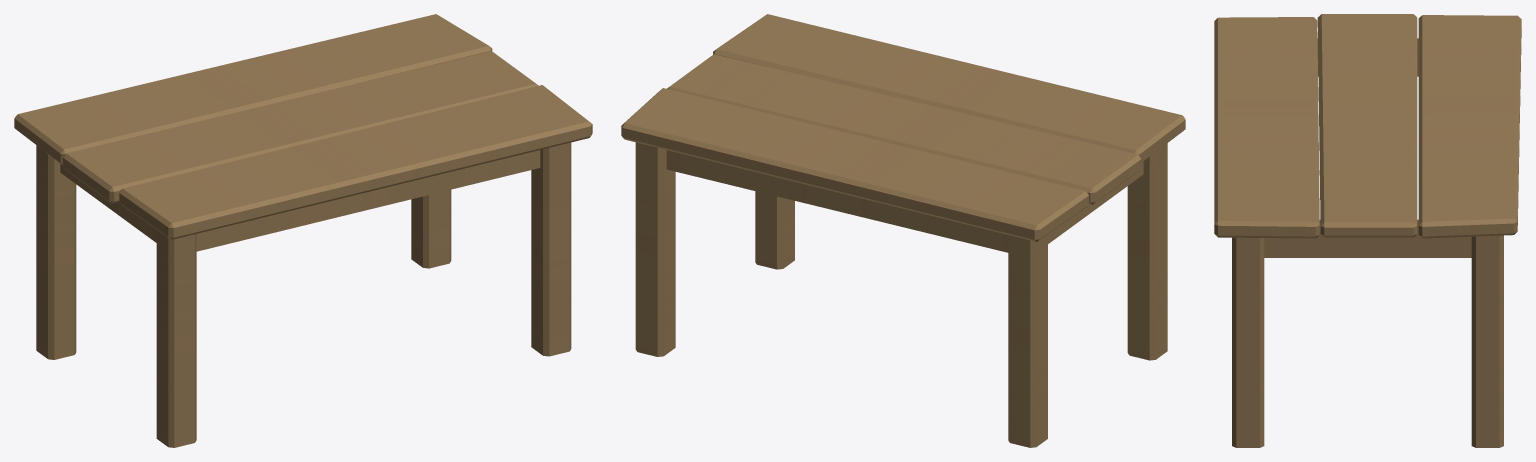
File: table_01.glb
3 views of the same model, side by side, from view 1: azimuth 30°, elevation 25°; view 2: azimuth 150°, elevation 25°; view 3: azimuth 270°, elevation 25° (orthographic).
Parts seen in each view (by area): view 1: table.01; view 2: table.01; view 3: table.01.
Boxes of the visible parts, x1,y1,x2,y2 form: table.01: [14, 14, 592, 447]; table.01: [621, 14, 1185, 447]; table.01: [1214, 14, 1521, 447].
Bounding box in the file's own units: 2.5 × 1.28 × 1.54.
Materials: 1 (1 with a texture image).
